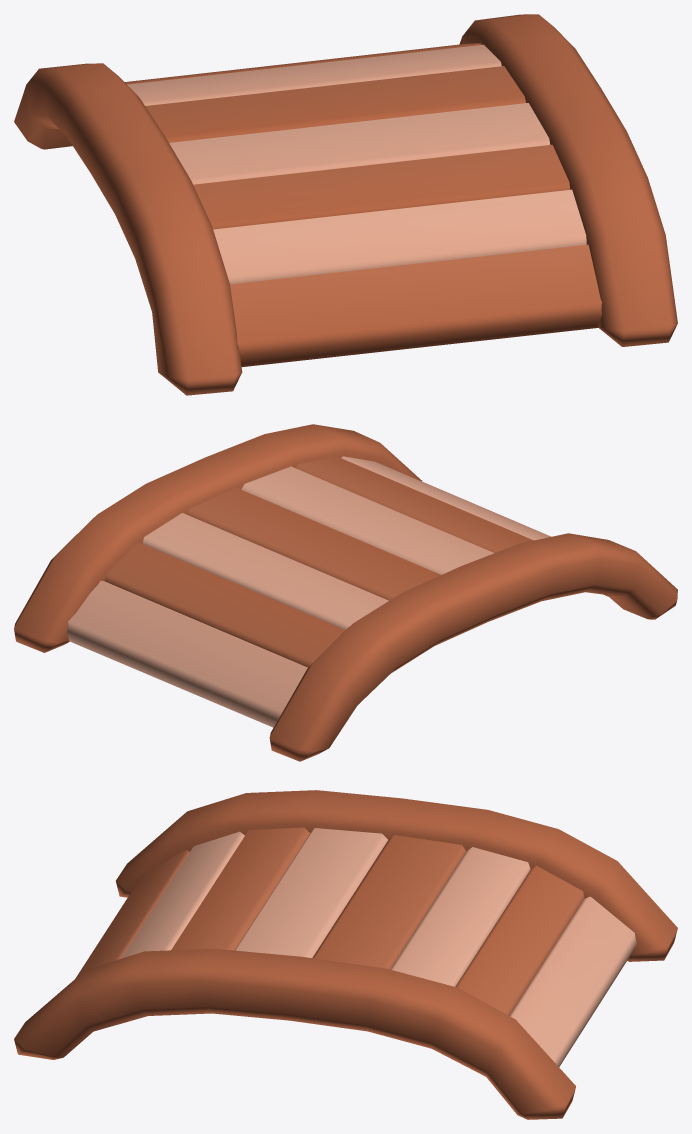
The model's file is kopru.fbx.
3 renders of one model, top to bottom at view 1: azimuth 30°, elevation 25°; view 2: azimuth 150°, elevation 25°; view 3: azimuth 270°, elevation 25°, orthographic. The views are drawn at different scales.
Visible parts, largest first — view 1: kopru; view 2: kopru; view 3: kopru.
Part boxes in pixels (bbox=[...]): kopru: bbox=[14, 14, 677, 395]; kopru: bbox=[14, 424, 677, 761]; kopru: bbox=[14, 790, 677, 1119].
Size of the model in its own units: 148 by 32.82 by 168.
